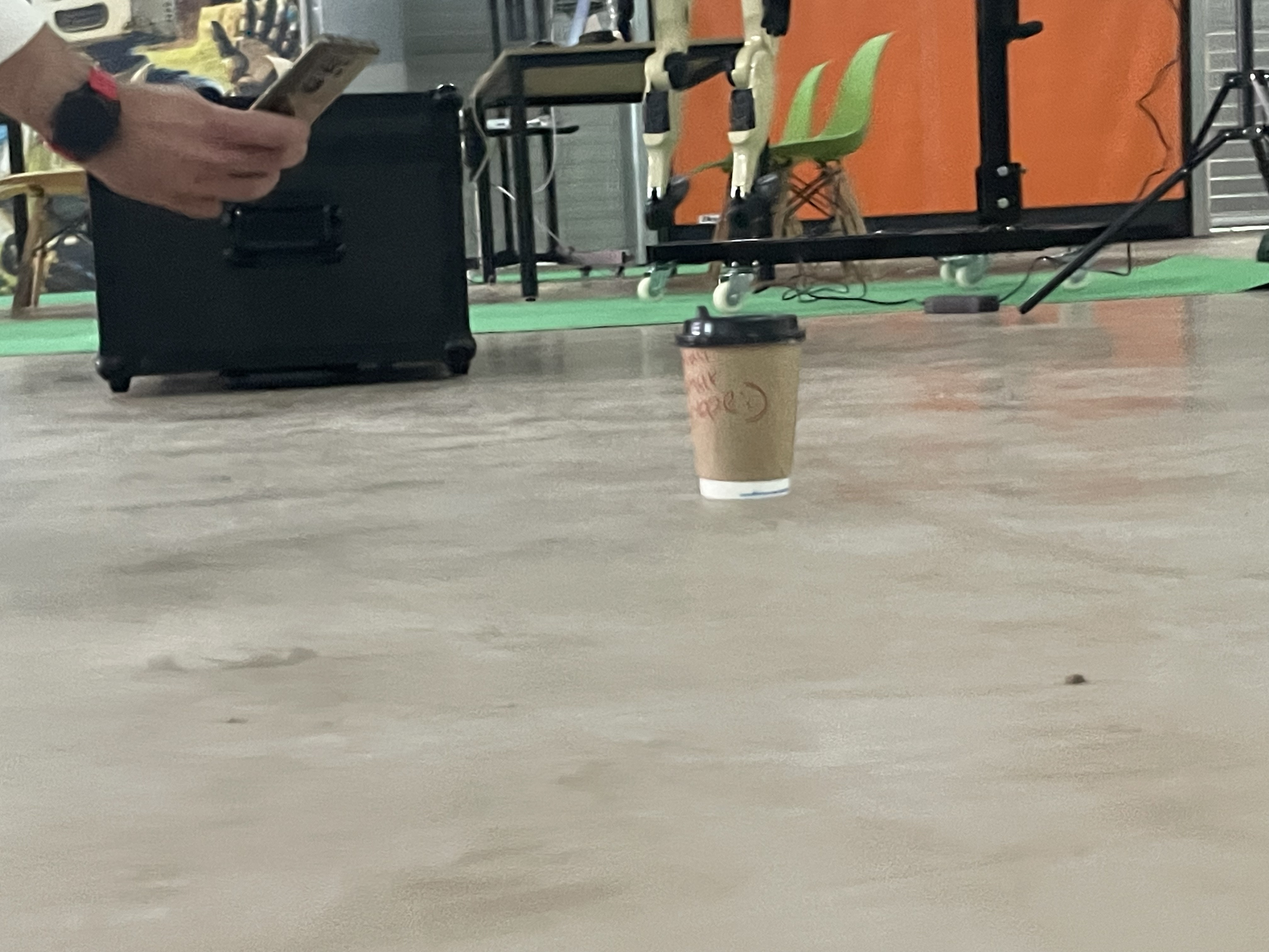cup: (676, 305, 804, 500)
